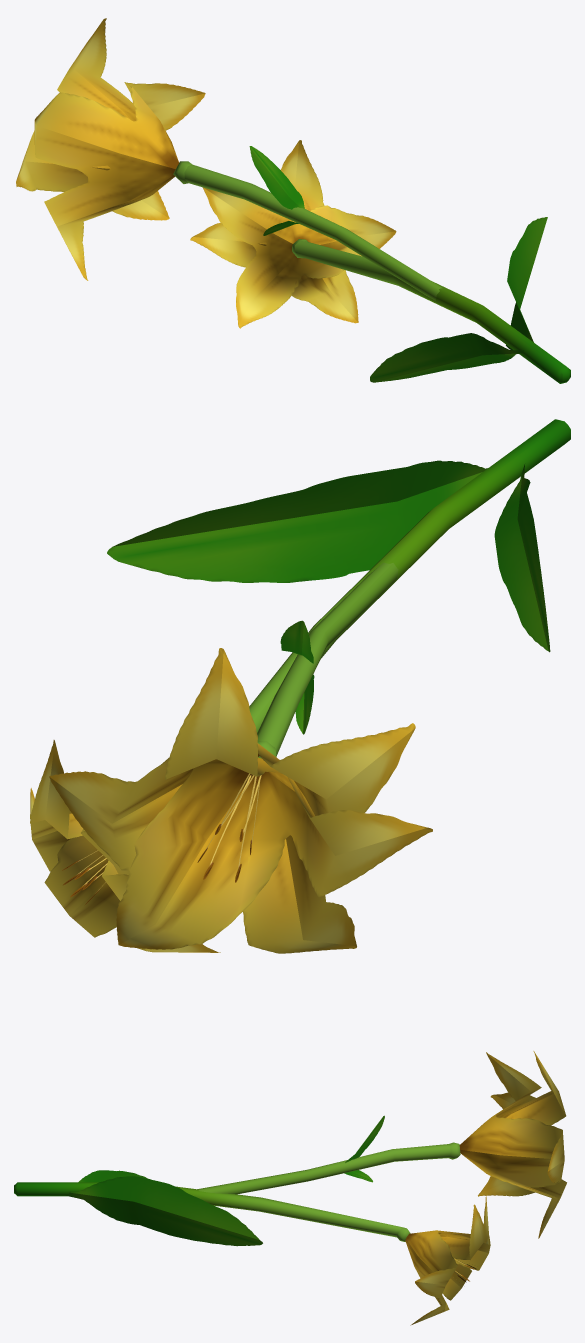
Rendered from SM_Lilly_Yellow_Two.fbx.
3 views of the same model, one above another, from view 1: azimuth 30°, elevation 25°; view 2: azimuth 150°, elevation 25°; view 3: azimuth 270°, elevation 25° (orthographic). The views are drawn at different scales.
Parts seen in each view (by area): view 1: Lilly_Yellow_Two; view 2: Lilly_Yellow_Two; view 3: Lilly_Yellow_Two.
Boxes of the visible parts, x1,y1,x2,y2 form: Lilly_Yellow_Two: (16,18,570,383); Lilly_Yellow_Two: (30,419,570,953); Lilly_Yellow_Two: (14,1051,566,1325).
Bounding box in the file's own units: 97.23 × 74.62 × 159.
